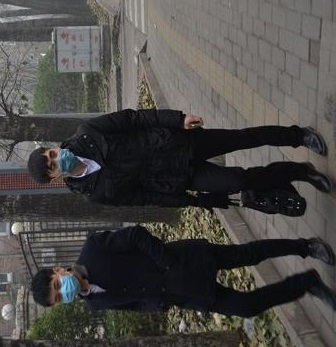person: (25, 107, 336, 218), (31, 225, 336, 321)
